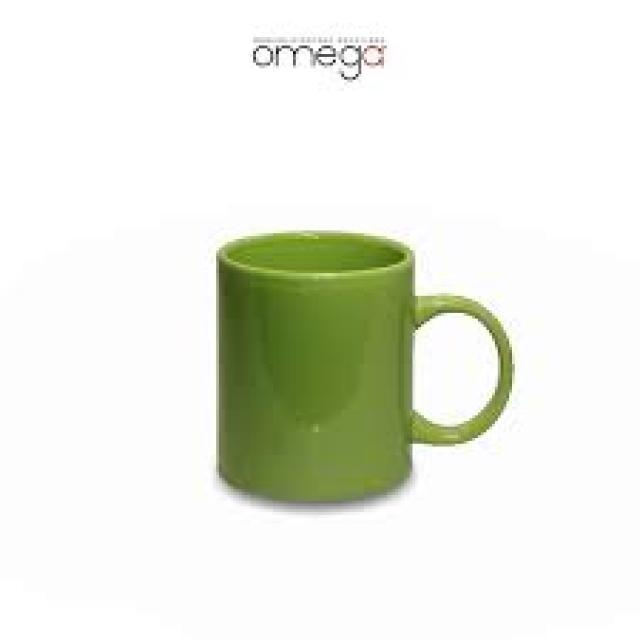taza: (213, 228, 514, 503)
